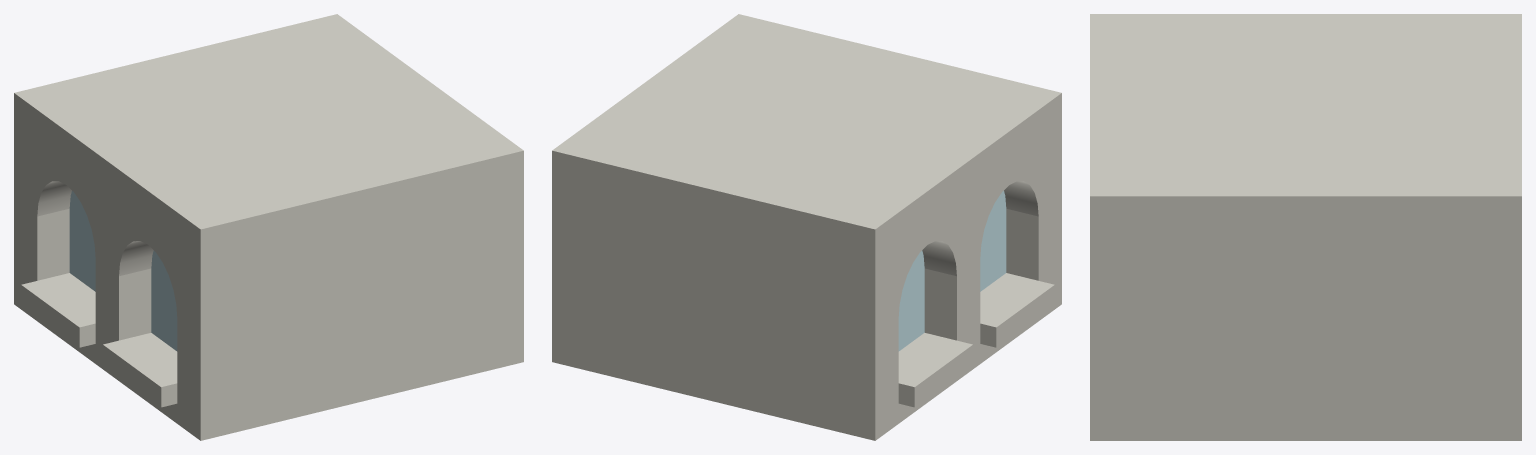
Rendered from building_029.glb.
3 renders of one model, left to right at view 1: azimuth 30°, elevation 25°; view 2: azimuth 150°, elevation 25°; view 3: azimuth 270°, elevation 25°, orthographic. The views are drawn at different scales.
Parts seen in each view (by area): view 1: building_029; view 2: building_029; view 3: building_029.
Part boxes in pixels (x1,y1,x2,y2): building_029: (14, 14, 523, 440); building_029: (552, 14, 1061, 440); building_029: (1090, 14, 1521, 440).
Size of the model in its own units: 1.05 by 0.625 by 1.
